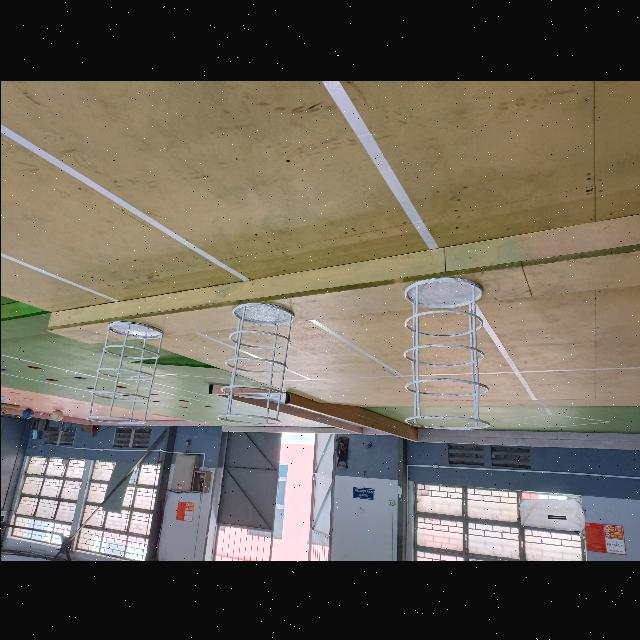S: (404, 277, 488, 429), (216, 301, 293, 425), (86, 320, 161, 423)
